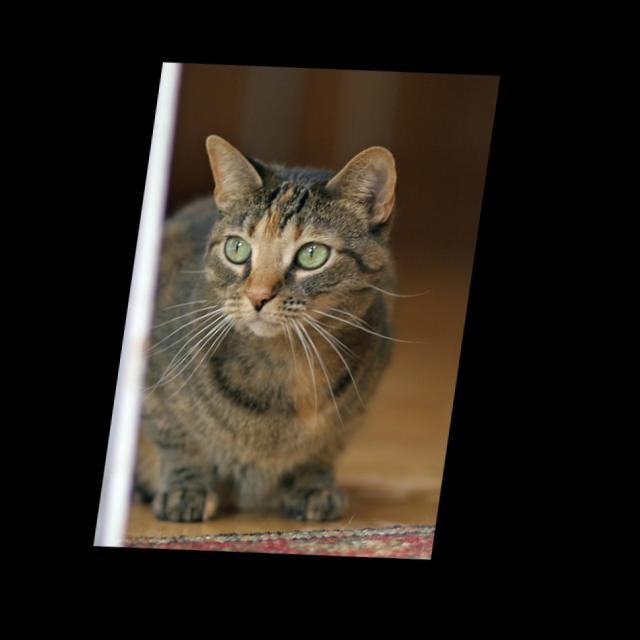animals: (192, 134, 394, 317)
